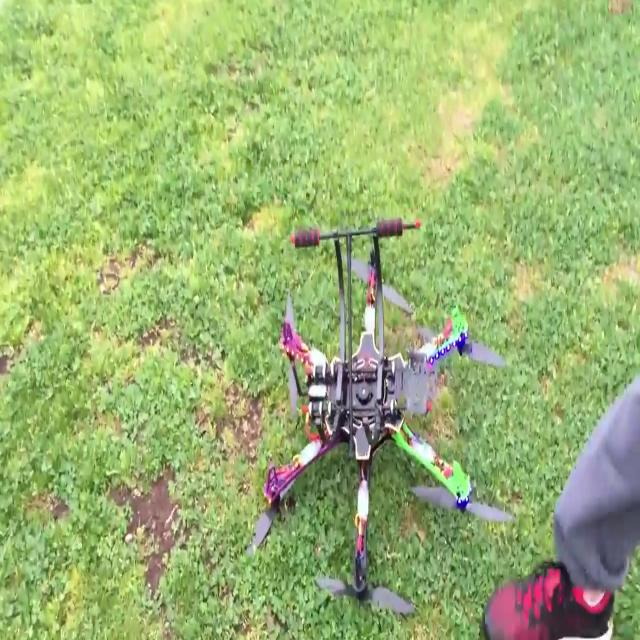drone: (221, 183, 514, 594)
